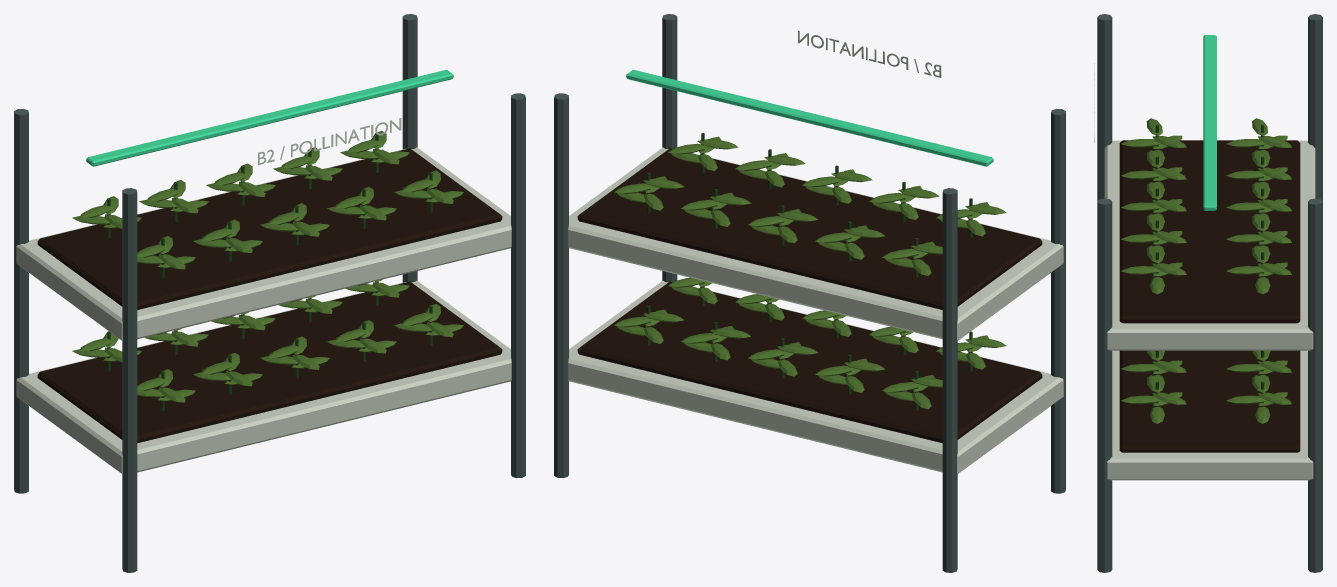
Rendered from SM_MP_Nursery_Rack.fbx.
The picture shows the model from 3 angles, left to right: view 1: azimuth 30°, elevation 25°; view 2: azimuth 150°, elevation 25°; view 3: azimuth 270°, elevation 25°; orthographic projection. The views are drawn at different scales.
Parts seen in each view (by area): view 1: SM_MP_Nursery_Rack; view 2: SM_MP_Nursery_Rack; view 3: SM_MP_Nursery_Rack.
Part boxes in pixels (x1,y1,x2,y2): SM_MP_Nursery_Rack: (14, 14, 525, 572); SM_MP_Nursery_Rack: (554, 14, 1065, 572); SM_MP_Nursery_Rack: (1094, 14, 1322, 572).
Bounding box in the file's own units: 300 × 152 × 279.
1 material, 1 textured.
